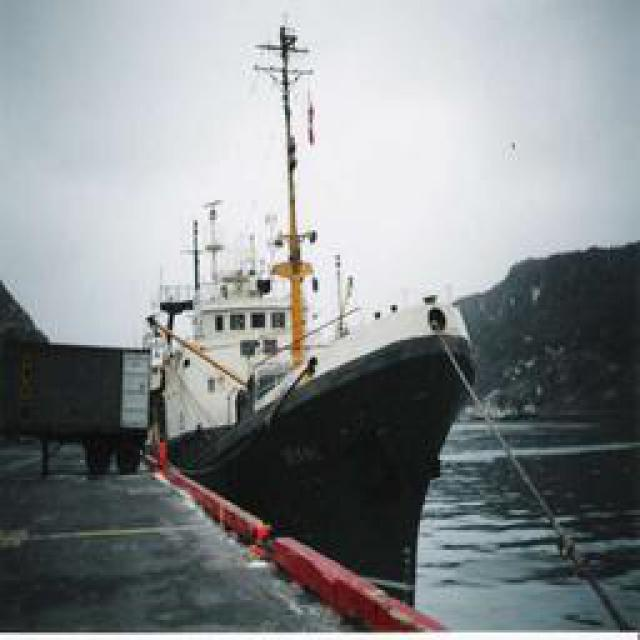Ship: (156, 211, 484, 616)
